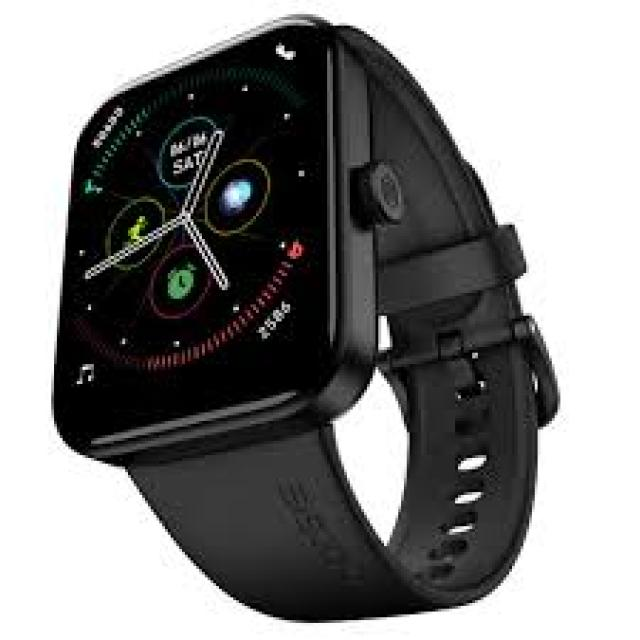objects: (48, 14, 558, 620)
